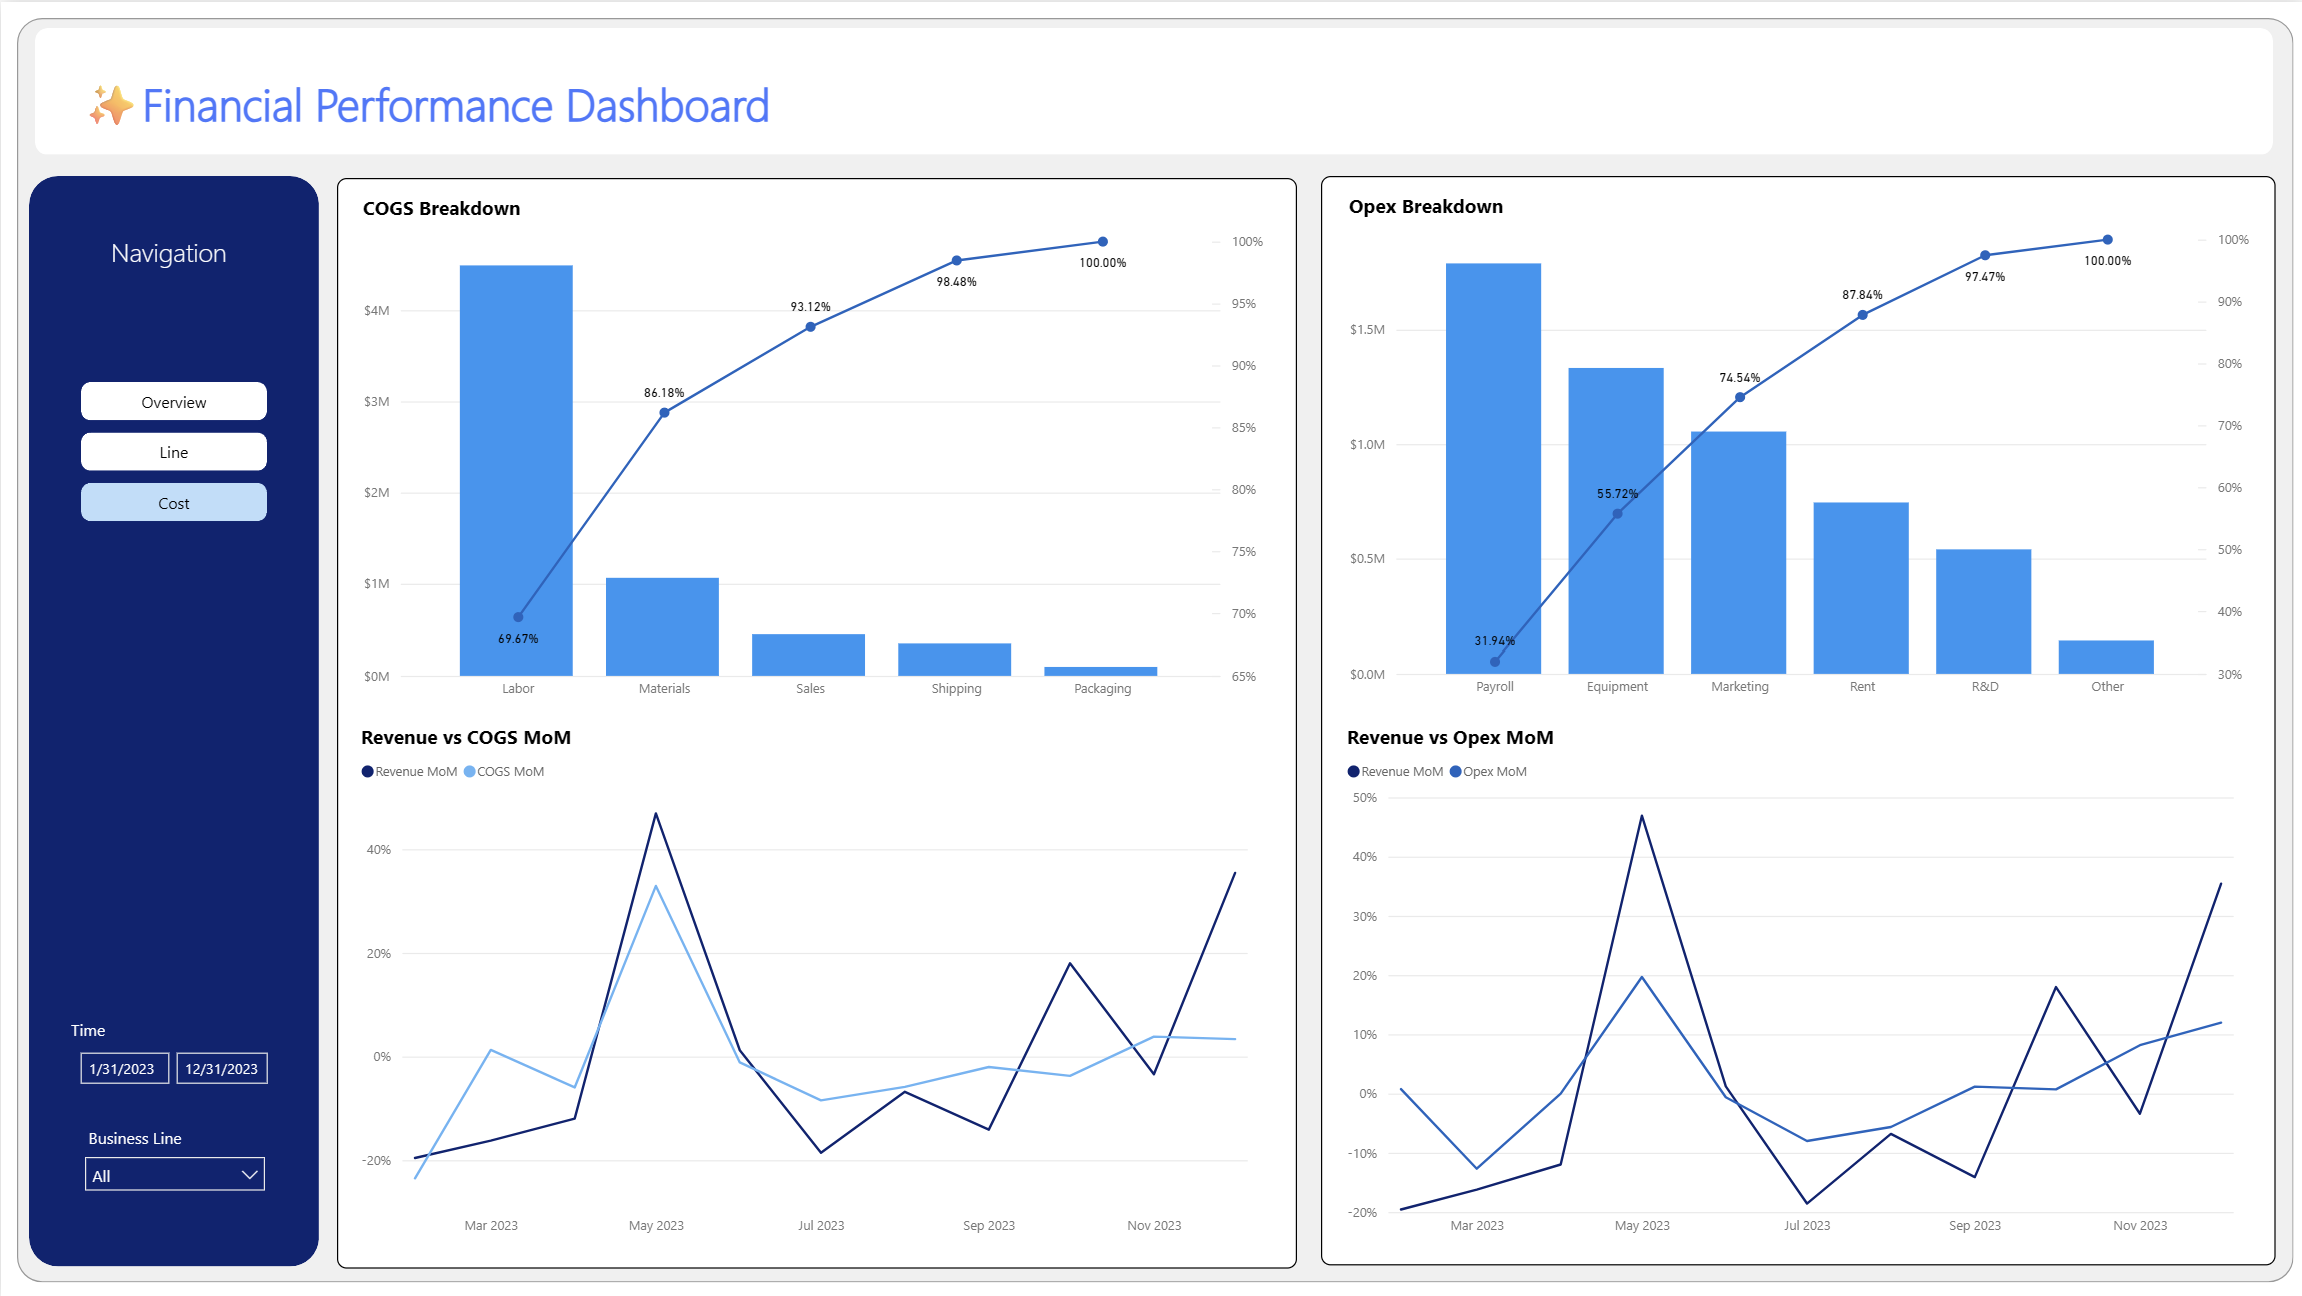

Layout of this report page (visuals, bound fields, positions):
{"tool":"powerbi","page":{"name":"Cost","canvas":[1920,1080],"ordinal":2},"visuals":[{"type":"shape","box":[12.8,14,1897.2,1052.8],"z":0},{"type":"textbox","box":[51.4,43.6,625,62.9],"z":2000},{"type":"shape","box":[22.7,144.5,241.7,907.9],"z":3000,"group":"g1"},{"type":"shape","box":[1100,144.3,795.7,907.1],"z":4000},{"type":"advancedSlicerVisual","title":"    Chose business line","fields":{"Values":["Business Line.Business Line"]},"box":[797.1,44.3,604.3,71.4],"z":5000},{"type":"textbox","box":[85.7,187.2,115.7,42.9],"z":5000,"group":"g2"},{"type":"shape","box":[280,146,800,908],"z":6000},{"type":"lineClusteredColumnComboChart","title":"COGS Breakdown","fields":{"Category":["Subgroup.Subgroup"],"Y":["*Measure.M_COGS_Amount"],"Y2":["*Measure.Pareto % (COGS by Subgroup)"]},"box":[296.2,160,760,428.8],"z":7000},{"type":"shape","box":[27.9,22.1,1865,105.7],"z":8000},{"type":"lineChart","title":"Revenue & COGS MoM and COGS MoM ","fields":{"Category":["dim_calendar.StartOfMonth"],"Y":["*Measure.Revenue MoM","*Measure.COGS MoM"]},"box":[295.7,600,761.4,435.7],"z":9000},{"type":"lineClusteredColumnComboChart","title":"Opex Breakdown","fields":{"Category":["Subgroup.Subgroup"],"Y":["*Measure.M_Opex_Amount"],"Y2":["*Measure.Pareto % (Opex by Subgroup)"]},"box":[1117.5,158.8,760,428.8],"z":10000},{"type":"lineChart","title":"Revenue MoM and COGS MoM ","fields":{"Category":["dim_calendar.StartOfMonth"],"Y":["*Measure.Revenue MoM","*Measure.Opex MoM"]},"box":[1117.1,600,761.4,435.7],"z":11000},{"type":"textbox","box":[61.4,53.6,625,62.9],"z":12000},{"type":"group","id":"g1","title":"Group 3","box":[22.7,144.5,241.7,907.9],"z":12001},{"type":"pageNavigator","box":[66.1,315.1,155,117.5],"z":18000,"group":"g2"},{"type":"slicer","title":"Time","fields":{"Values":["dim_calendar.Date"]},"box":[52.3,845.1,182.5,66.2],"z":19000,"group":"g2"},{"type":"slicer","fields":{"Values":["Business Line.Business Line"]},"box":[58.5,930.9,170,66.7],"z":20000,"group":"g2"},{"type":"group","id":"g2","title":"Group 1","box":[52.3,187.2,182.5,810.4],"z":20001,"group":"g1"}]}

Visuals, with their boxes in screenshot pixels (x1, y1, x2, y2), scaled from the page's 1920x1080 canvas onto the 2302x1296 screenshot:
shape: [15,17,2290,1280]
textbox: [62,52,811,128]
shape: [27,173,317,1263]
shape: [1319,173,2273,1262]
"    Chose business line" advancedSlicerVisual: [956,53,1680,139]
textbox: [103,225,241,276]
shape: [336,175,1295,1265]
"COGS Breakdown" lineClusteredColumnComboChart: [355,192,1266,707]
shape: [33,27,2270,153]
"Revenue & COGS MoM and COGS MoM " lineChart: [355,720,1267,1243]
"Opex Breakdown" lineClusteredColumnComboChart: [1340,191,2251,705]
"Revenue MoM and COGS MoM " lineChart: [1339,720,2252,1243]
textbox: [74,64,823,140]
"Group 3" group: [27,173,317,1263]
pageNavigator: [79,378,265,519]
"Time" slicer: [63,1014,282,1094]
slicer - Business Line.Business Line: [70,1117,274,1197]
"Group 1" group: [63,225,282,1197]
